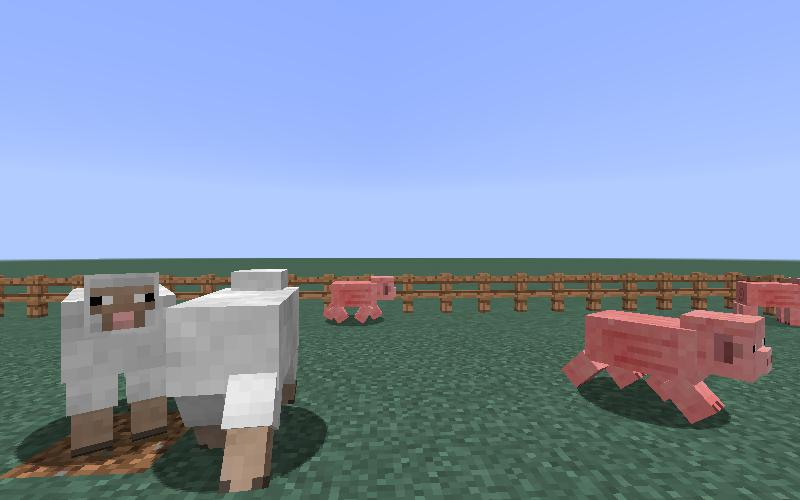pig: (559, 299, 773, 437), (323, 269, 398, 336), (733, 279, 800, 325)
sheep: (159, 263, 305, 497), (58, 263, 177, 458)
